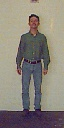person: (13, 13, 49, 112)
